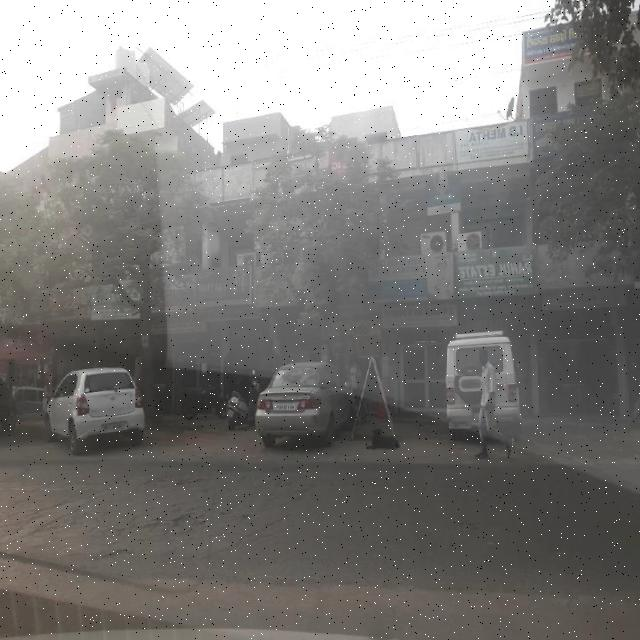D20: (1, 470, 315, 562)
D40: (156, 502, 217, 532), (99, 545, 140, 562)
